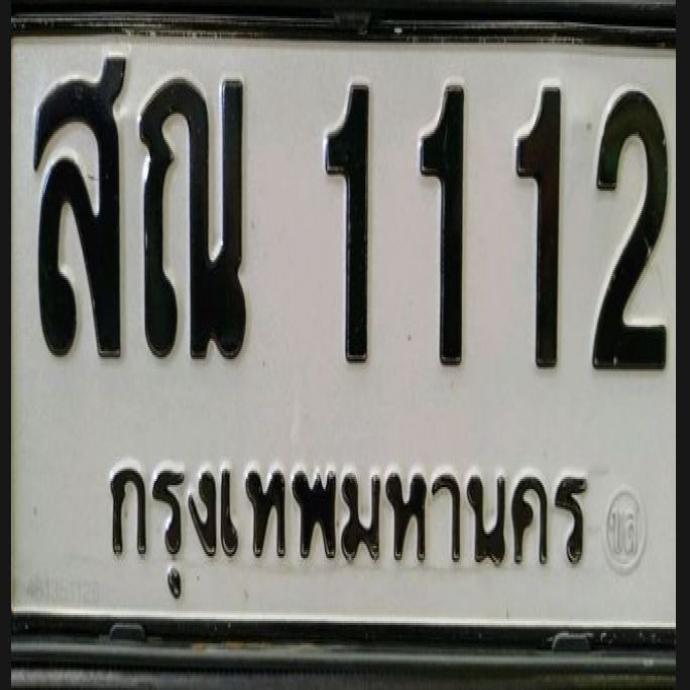1: (512, 82, 561, 368), (417, 80, 464, 361), (322, 80, 369, 361)
2: (589, 86, 674, 368)
A19: (138, 69, 247, 361)
A40: (30, 48, 127, 356)
BKK: (91, 433, 598, 614)
